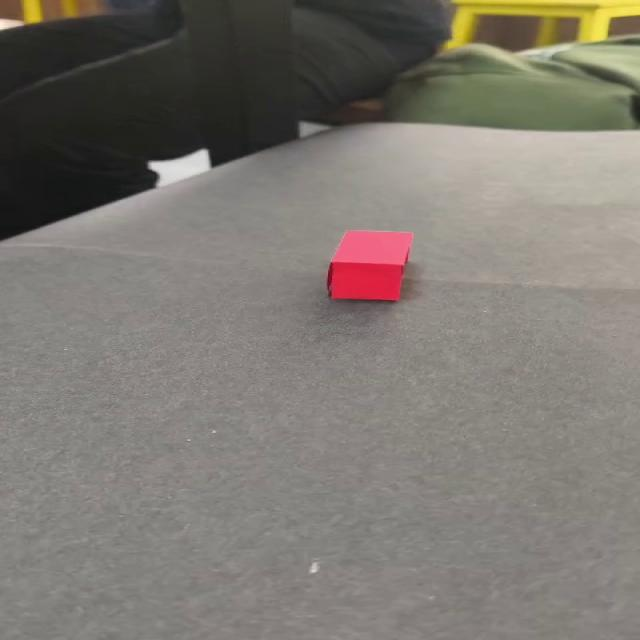red block: (326, 229, 414, 301)
